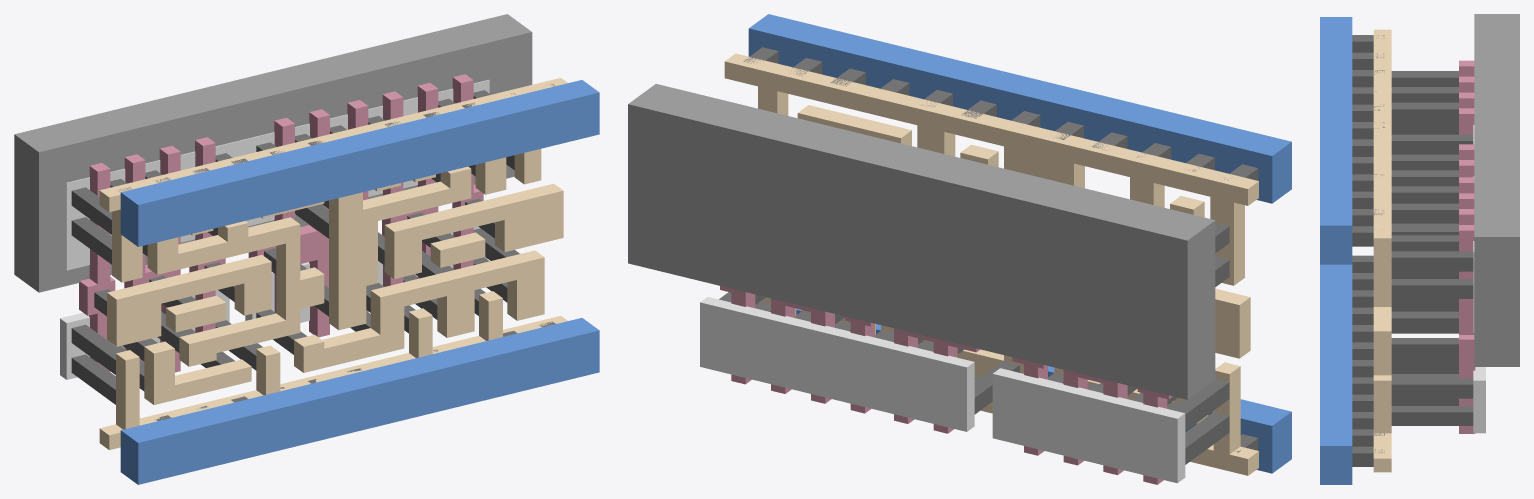
The model's file is sky130_fd_sc_hd__o2bb2ai_2.gds.gltf.
The picture shows the model from 3 angles, left to right: view 1: azimuth 30°, elevation 25°; view 2: azimuth 150°, elevation 25°; view 3: azimuth 270°, elevation 25°; orthographic projection. The views are drawn at different scales.
Parts seen in each view (by area): view 1: sky130_fd_sc_hd__o2bb2ai_2_li1, sky130_fd_sc_hd__o2bb2ai_2_met1, sky130_fd_sc_hd__o2bb2ai_2_nwell, sky130_fd_sc_hd__o2bb2ai_2_licon, sky130_fd_sc_hd__o2bb2ai_2_poly, sky130_fd_sc_hd__o2bb2ai_2_diff, sky130_fd_sc_hd__o2bb2ai_2_mcon; view 2: sky130_fd_sc_hd__o2bb2ai_2_nwell, sky130_fd_sc_hd__o2bb2ai_2_diff, sky130_fd_sc_hd__o2bb2ai_2_li1, sky130_fd_sc_hd__o2bb2ai_2_met1, sky130_fd_sc_hd__o2bb2ai_2_licon, sky130_fd_sc_hd__o2bb2ai_2_poly, sky130_fd_sc_hd__o2bb2ai_2_mcon; view 3: sky130_fd_sc_hd__o2bb2ai_2_licon, sky130_fd_sc_hd__o2bb2ai_2_nwell, sky130_fd_sc_hd__o2bb2ai_2_met1, sky130_fd_sc_hd__o2bb2ai_2_mcon, sky130_fd_sc_hd__o2bb2ai_2_li1, sky130_fd_sc_hd__o2bb2ai_2_poly, sky130_fd_sc_hd__o2bb2ai_2_diff.
Boxes of the visible parts, x1=… form: sky130_fd_sc_hd__o2bb2ai_2_li1: x1=99, y1=78, x2=567, y2=450; sky130_fd_sc_hd__o2bb2ai_2_met1: x1=120, y1=80, x2=599, y2=484; sky130_fd_sc_hd__o2bb2ai_2_nwell: x1=14, y1=14, x2=532, y2=292; sky130_fd_sc_hd__o2bb2ai_2_licon: x1=71, y1=90, x2=519, y2=404; sky130_fd_sc_hd__o2bb2ai_2_poly: x1=79, y1=74, x2=483, y2=372; sky130_fd_sc_hd__o2bb2ai_2_diff: x1=60, y1=80, x2=489, y2=379; sky130_fd_sc_hd__o2bb2ai_2_mcon: x1=116, y1=84, x2=555, y2=420; sky130_fd_sc_hd__o2bb2ai_2_nwell: x1=628, y1=84, x2=1215, y2=399; sky130_fd_sc_hd__o2bb2ai_2_diff: x1=700, y1=297, x2=1185, y2=483; sky130_fd_sc_hd__o2bb2ai_2_li1: x1=724, y1=53, x2=1258, y2=475; sky130_fd_sc_hd__o2bb2ai_2_met1: x1=748, y1=14, x2=1291, y2=473; sky130_fd_sc_hd__o2bb2ai_2_licon: x1=719, y1=223, x2=1229, y2=464; sky130_fd_sc_hd__o2bb2ai_2_poly: x1=720, y1=286, x2=1172, y2=484; sky130_fd_sc_hd__o2bb2ai_2_mcon: x1=743, y1=47, x2=1258, y2=452; sky130_fd_sc_hd__o2bb2ai_2_licon: x1=1391, y1=71, x2=1473, y2=425; sky130_fd_sc_hd__o2bb2ai_2_nwell: x1=1474, y1=14, x2=1519, y2=366; sky130_fd_sc_hd__o2bb2ai_2_met1: x1=1320, y1=17, x2=1352, y2=484; sky130_fd_sc_hd__o2bb2ai_2_mcon: x1=1352, y1=35, x2=1384, y2=466; sky130_fd_sc_hd__o2bb2ai_2_li1: x1=1373, y1=29, x2=1391, y2=472; sky130_fd_sc_hd__o2bb2ai_2_poly: x1=1459, y1=60, x2=1475, y2=433; sky130_fd_sc_hd__o2bb2ai_2_diff: x1=1473, y1=124, x2=1485, y2=433.
Size of the model in its own units: 5.9 by 3.2 by 2.24.
